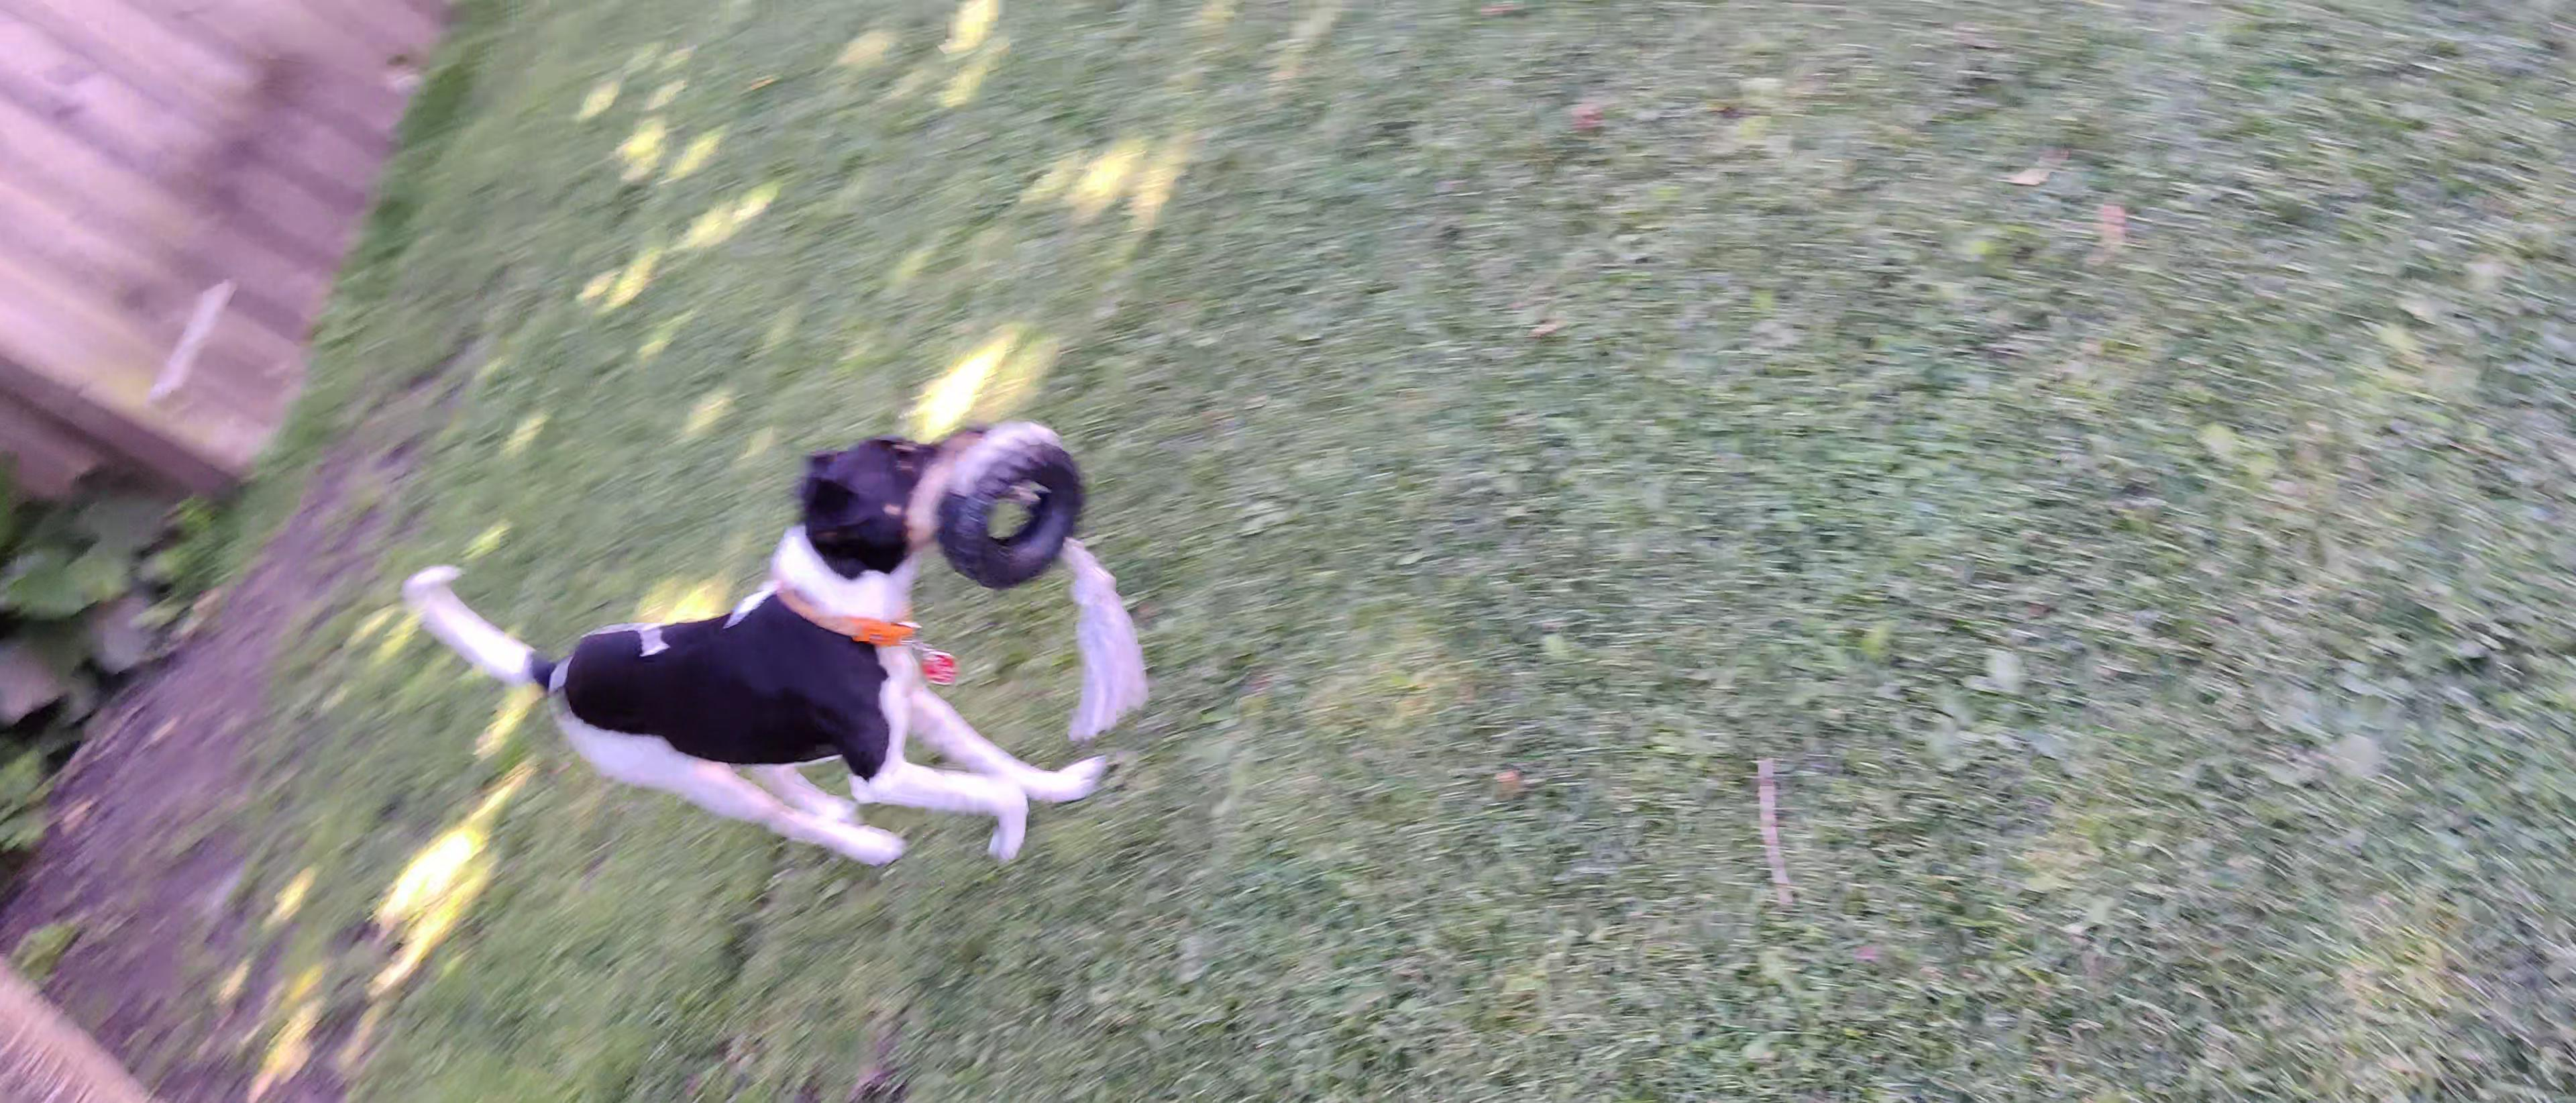Dog: (393, 399, 1120, 873)
